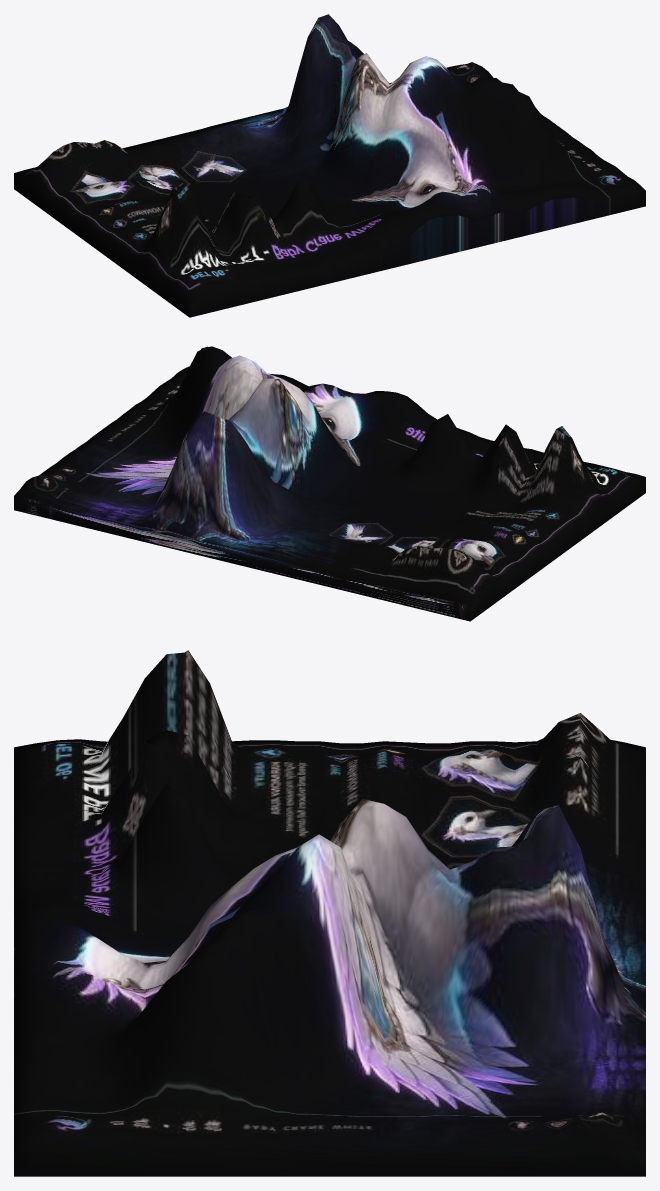
Rendered from PET_06_Crane.glb.
3 renders of one model, top to bottom at view 1: azimuth 30°, elevation 25°; view 2: azimuth 150°, elevation 25°; view 3: azimuth 270°, elevation 25°, orthographic. The views are drawn at different scales.
Parts seen in each view (by area): view 1: PET_06_Crane; view 2: PET_06_Crane; view 3: PET_06_Crane.
Boxes of the visible parts, box(x1,y1,x2,y2) form: PET_06_Crane: box(14, 14, 645, 317); PET_06_Crane: box(14, 346, 645, 621); PET_06_Crane: box(14, 650, 645, 1176).
Size of the model in its own units: 2 by 0.51 by 1.33.
1 material, 1 textured.
